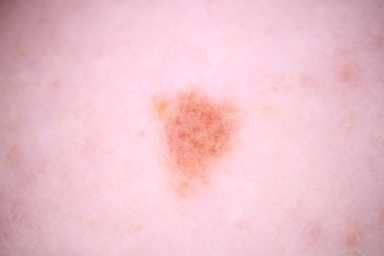nevus: (155, 89, 231, 185)
